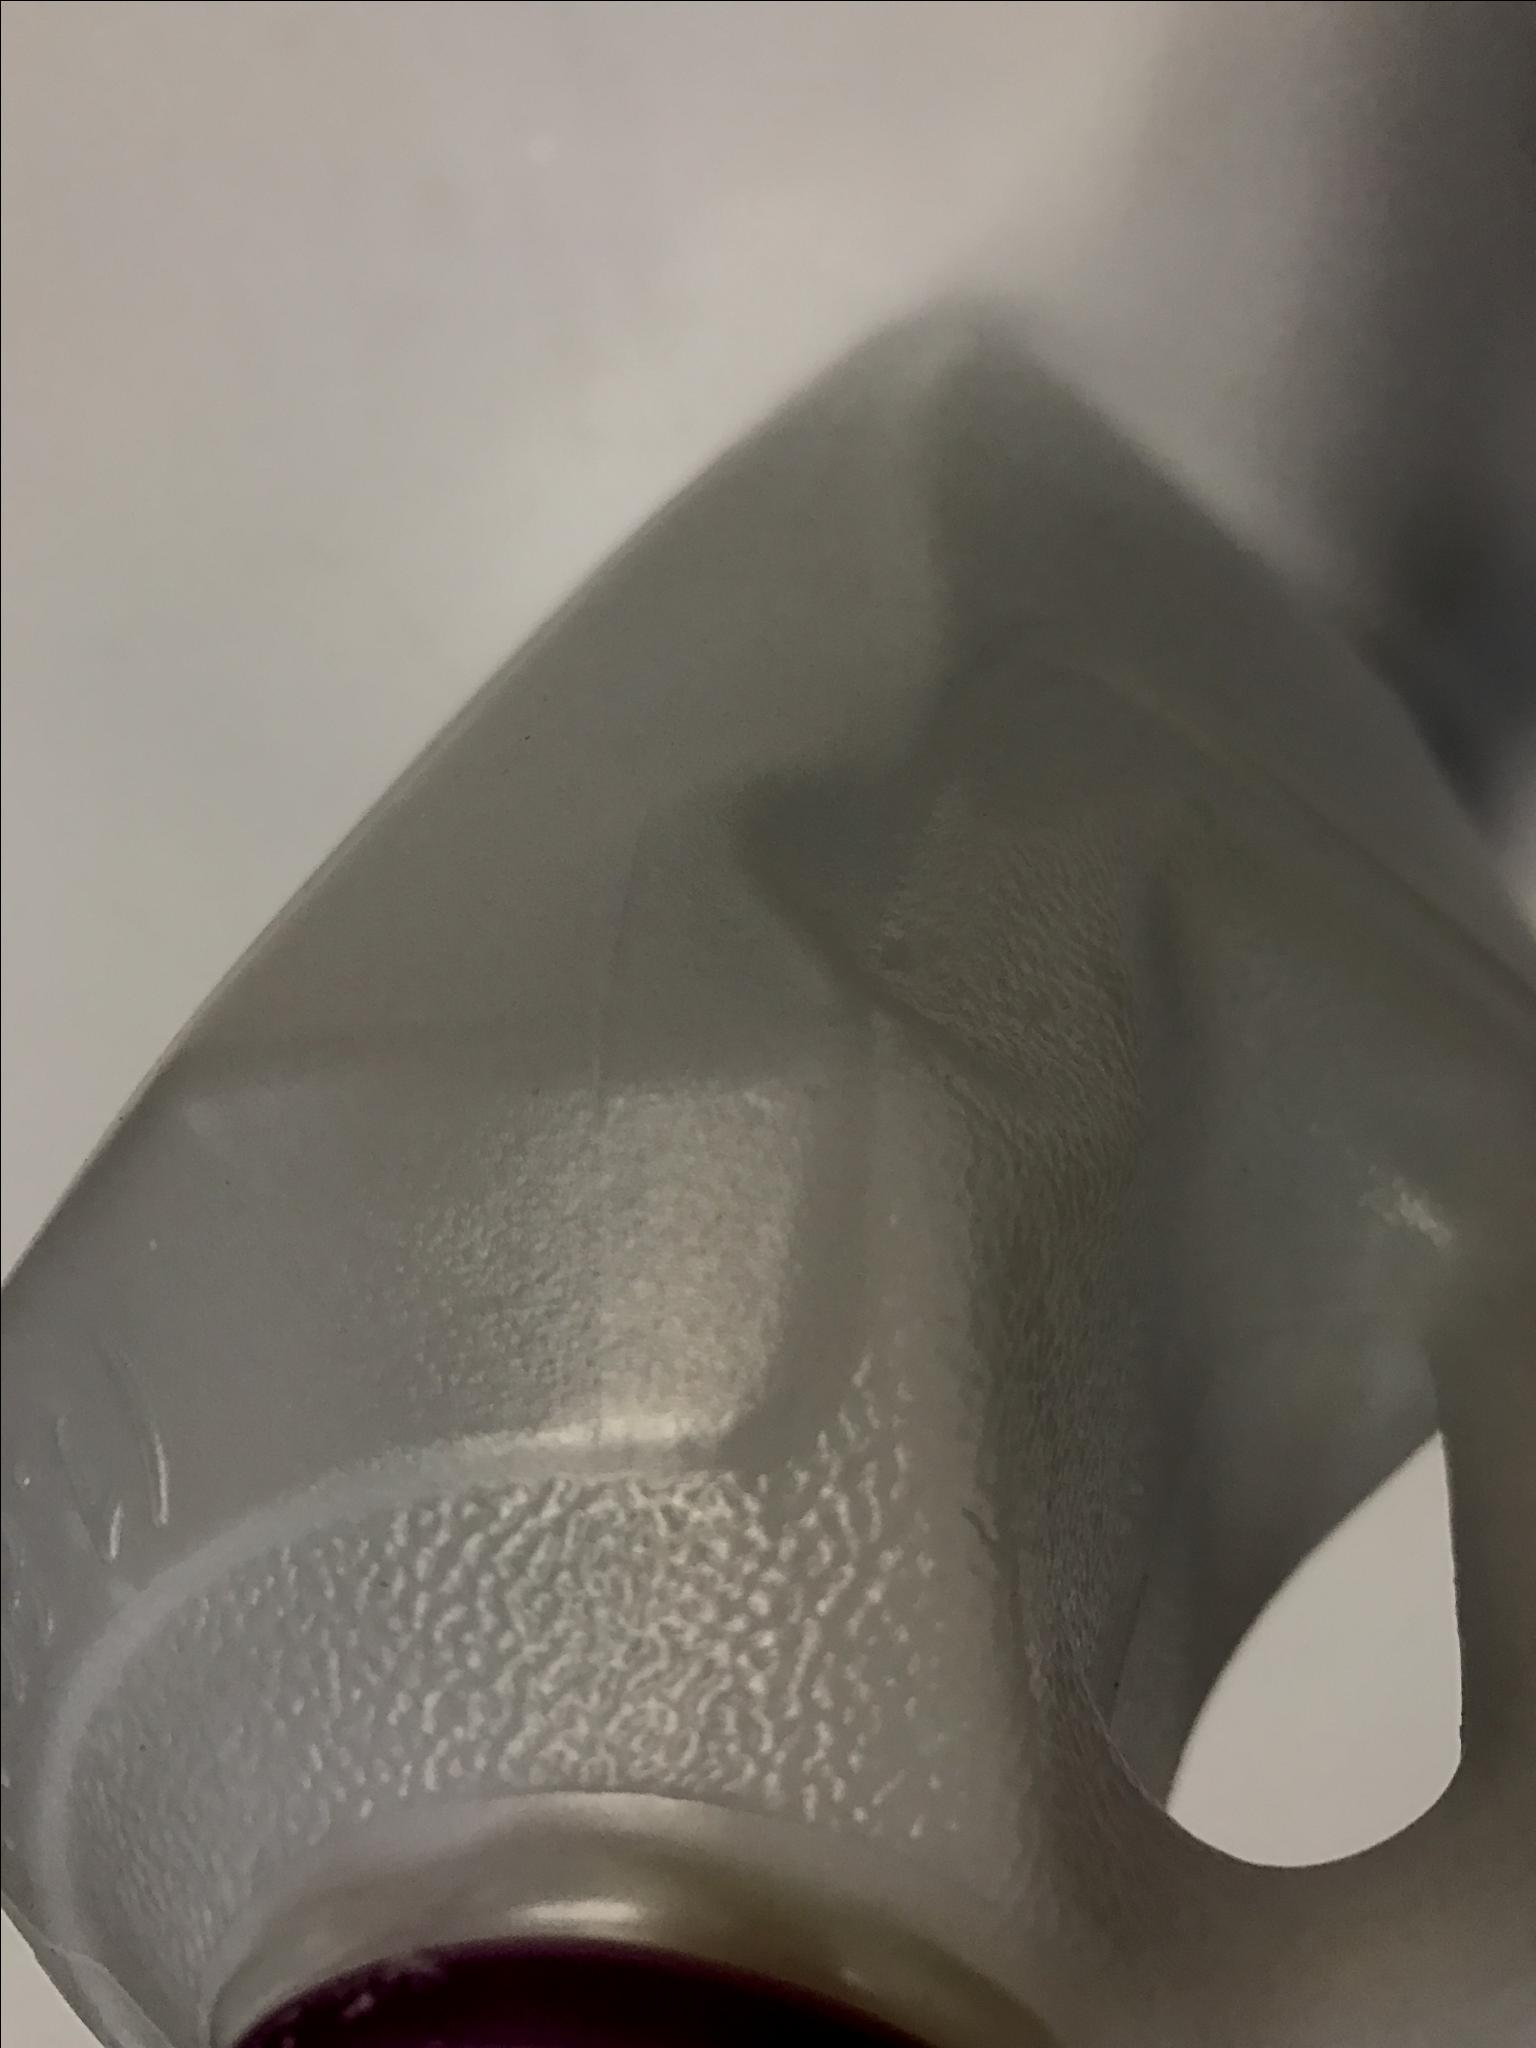Plastic: (2, 227, 1534, 2046)
